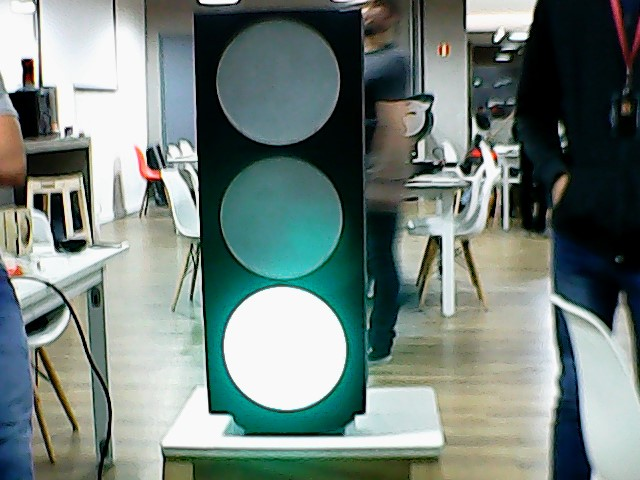verde: (188, 7, 374, 418)
